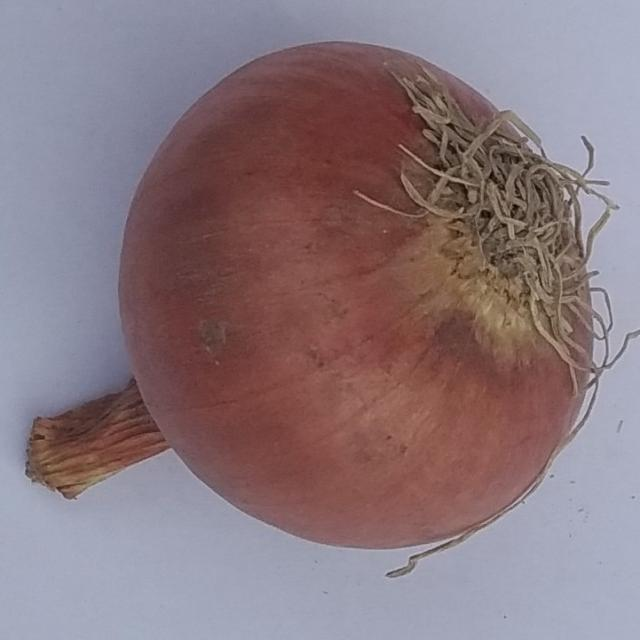onion: (23, 38, 639, 579)
